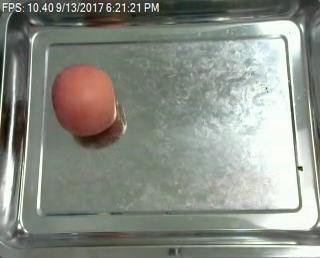apple: (51, 65, 117, 136)
